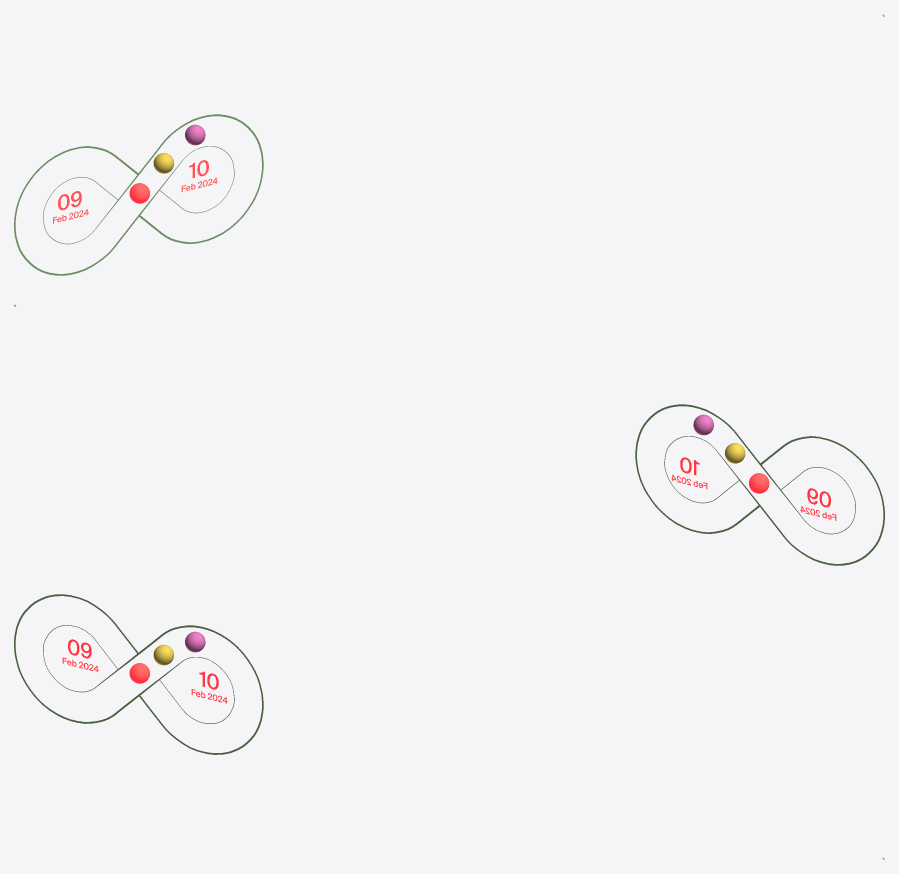
The model's file is lastInfinity.glb.
The picture shows the model from 3 angles, top to bottom: view 1: azimuth 30°, elevation 25°; view 2: azimuth 150°, elevation 25°; view 3: azimuth 330°, elevation 25°; orthographic projection.
Parts seen in each view (by area): view 1: Plane; view 2: Plane; view 3: Plane.
Boxes of the visible parts, left/top/right/bottom form: Plane: left=14, top=114, right=263, bottom=275; Plane: left=635, top=404, right=884, bottom=565; Plane: left=14, top=594, right=263, bottom=754.
Size of the model in its own units: 6.8 by 0.943 by 0.14.
